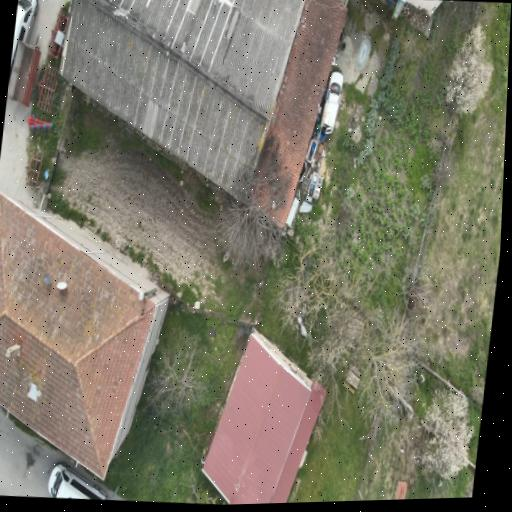car: (48, 462, 108, 499), (321, 70, 343, 133), (14, 0, 37, 41)
